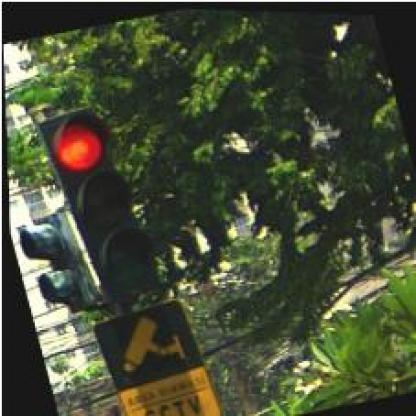red: (34, 102, 160, 302)
